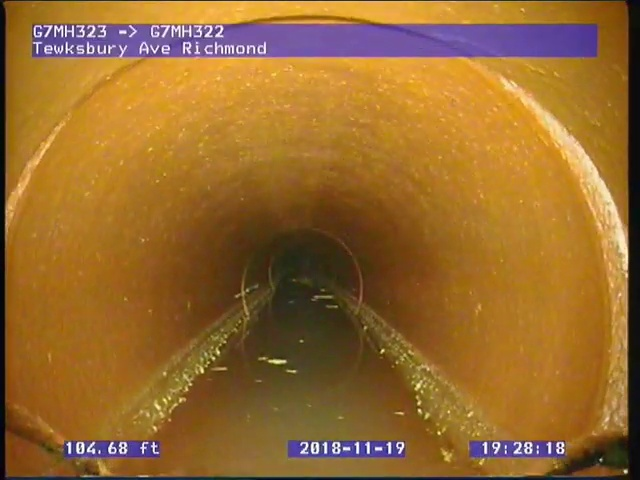crack: (4, 403, 117, 478), (534, 432, 629, 476)
